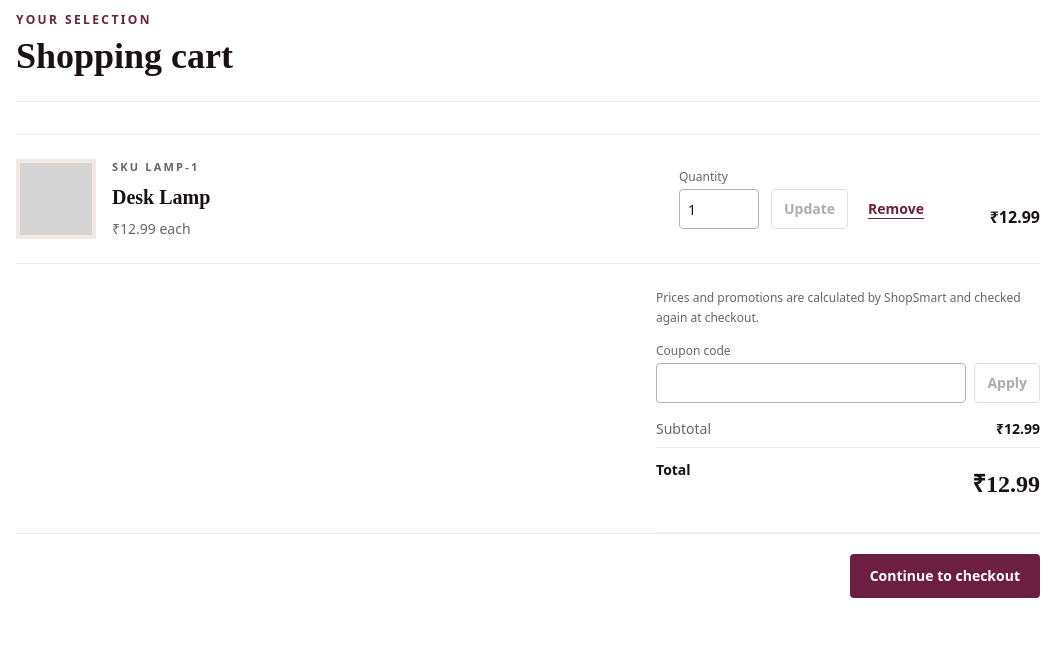
Test: CartPage › does not change the shared count when a quantity update fails
This screenshot has width=1057, height=651.
Replace the text in the number field named "quantity for desk lamp" with "2". click: [719, 209]
box: left=679, top=189, right=759, bottom=229
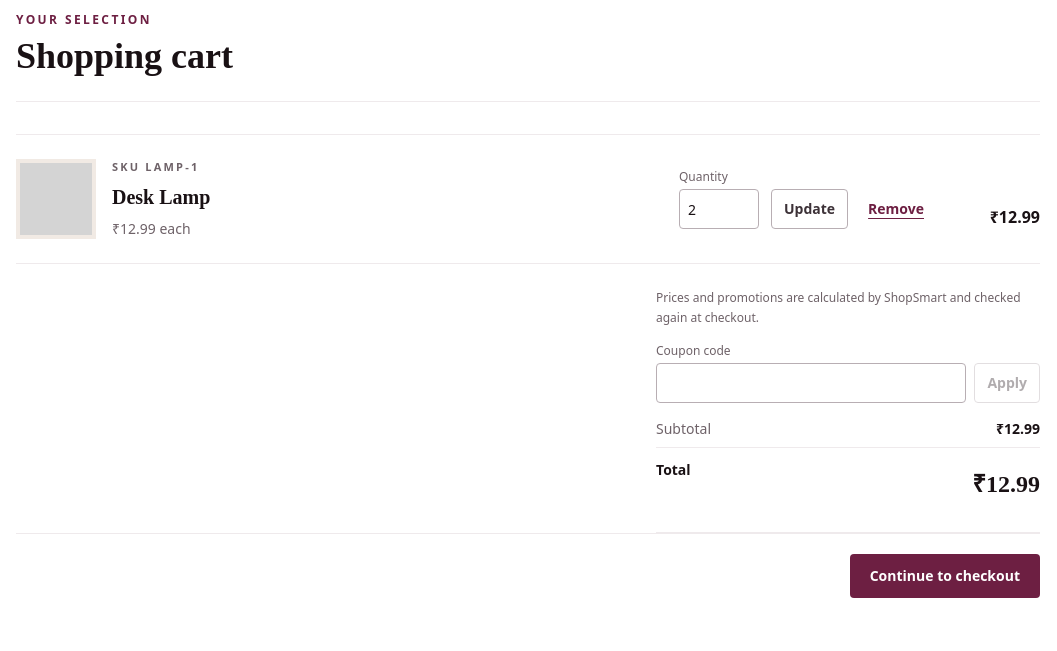
Click the button "Update". click: [810, 209]
box: left=771, top=189, right=848, bottom=229
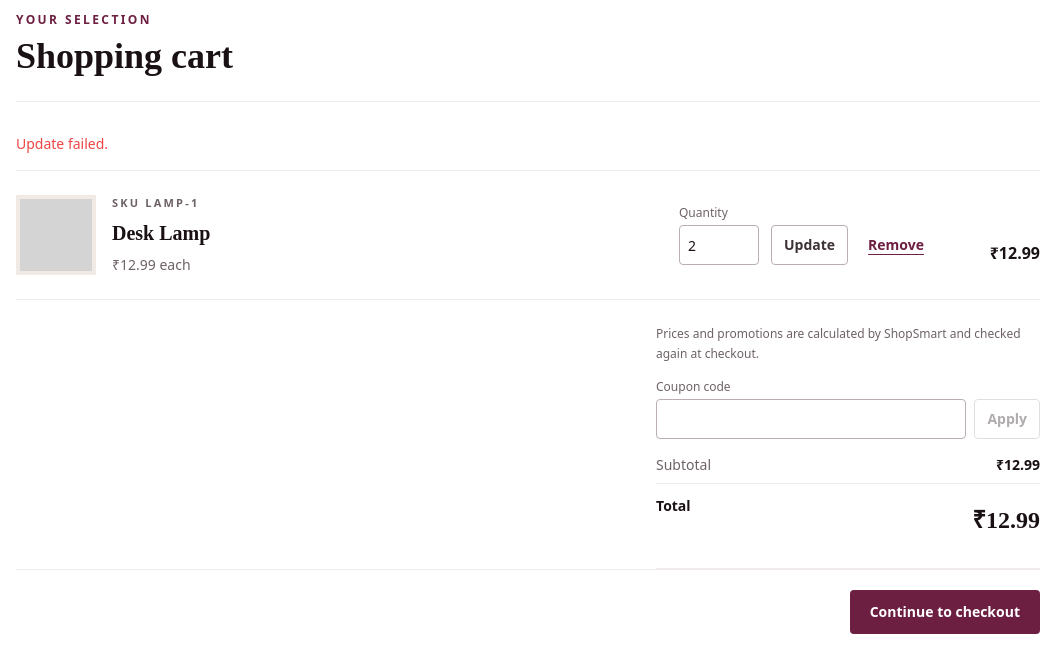
Now the message reads "Update failed.", box left=16, top=134, right=108, bottom=153
